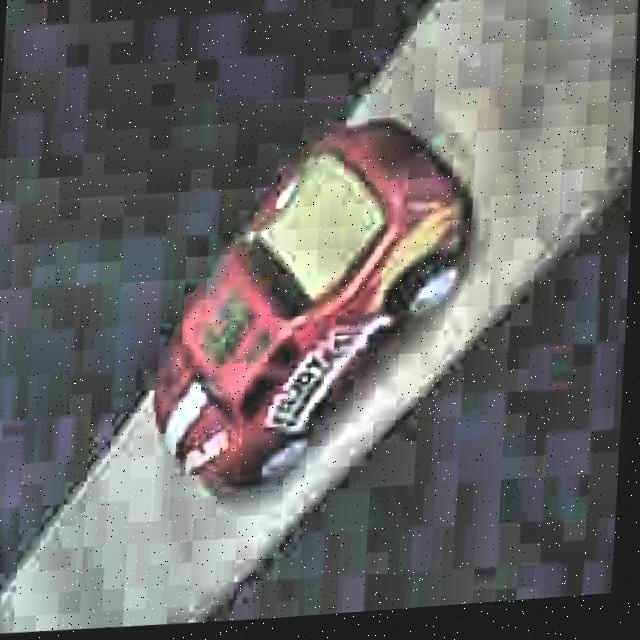car: (144, 105, 482, 502)
